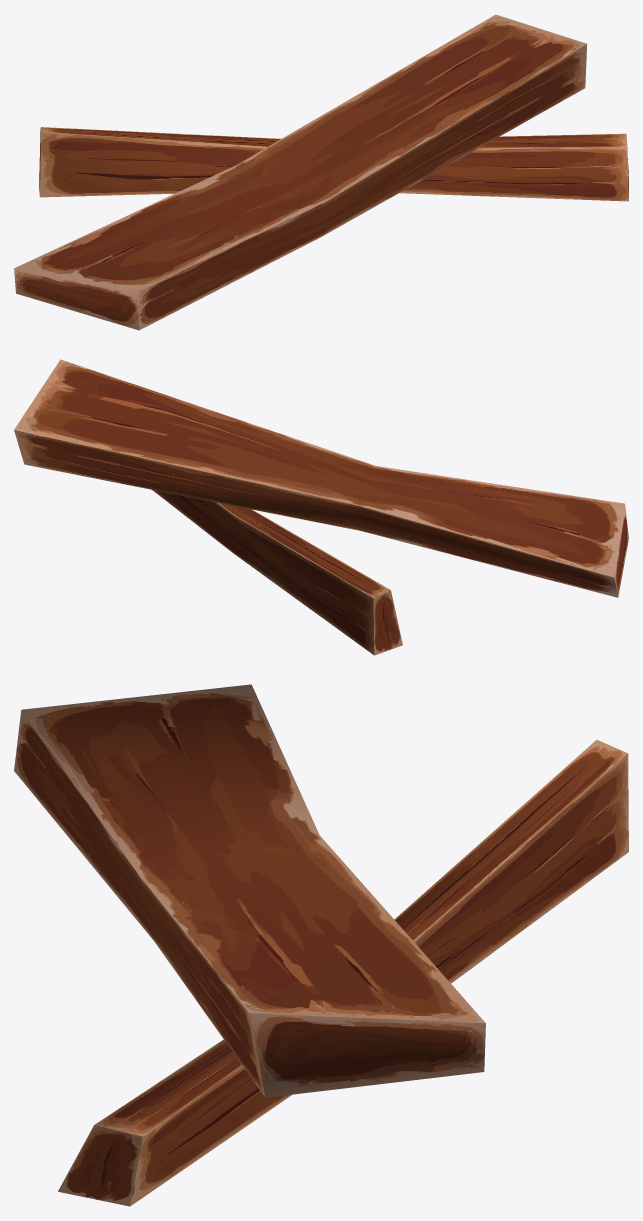
Rendered from SM_PROP_planks_01.fbx.
The picture shows the model from 3 angles, top to bottom: view 1: azimuth 30°, elevation 25°; view 2: azimuth 150°, elevation 25°; view 3: azimuth 270°, elevation 25°; orthographic projection. The views are drawn at different scales.
Parts seen in each view (by area): view 1: SM_PROP_planks_01; view 2: SM_PROP_planks_01; view 3: SM_PROP_planks_01.
Part boxes in pixels (x1,y1,x2,y2): SM_PROP_planks_01: [14, 14, 628, 330]; SM_PROP_planks_01: [14, 359, 628, 655]; SM_PROP_planks_01: [14, 684, 628, 1206].
Bounding box in the file's own units: 192 × 37.11 × 104.
